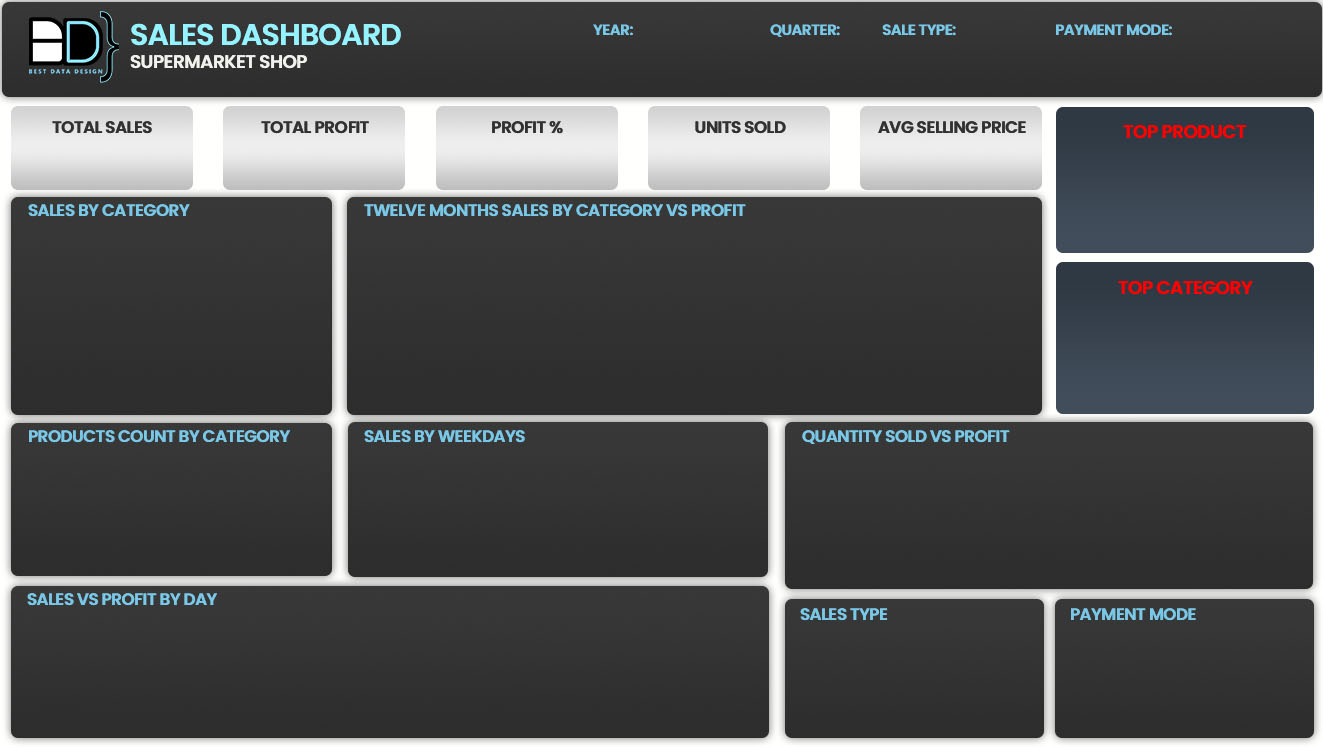

This screenshot's page, from the dashboard's own definition file:
{"tool":"powerbi","page":{"name":"Page 1","canvas":[1280,720],"ordinal":0},"visuals":[{"type":"slicer","title":"YEAR","fields":{"Values":["InputData.Year"]},"box":[550,35.7,184.3,45.7],"z":0},{"type":"slicer","title":"QUARTER","fields":{"Values":["InputData.Quarter"]},"box":[735.7,35.7,121.4,63],"z":1000},{"type":"card","title":"Total Sales","fields":{"Values":["Sum(InputData.Total Sell)"]},"box":[24.7,123.4,150,70],"z":2000},{"type":"card","title":"Total Profit","fields":{"Values":["Sum(InputData.Profit)"]},"box":[229.6,122.4,150,70],"z":3000},{"type":"card","title":"Profit %","fields":{"Values":["InputData.Profit %"]},"box":[434.5,119.4,150,70],"z":4000},{"type":"donutChart","fields":{"Category":["InputData.SALE TYPE"],"Y":["Sum(InputData.Total Sell)"]},"box":[760,601.2,241.2,108.8],"z":5000},{"type":"donutChart","fields":{"Category":["InputData.PAYMENT MODE"],"Y":["Sum(InputData.Total Sell)"]},"box":[1018.8,601.2,241.2,108.8],"z":6000},{"type":"actionButton","box":[0,0,100,40],"z":7000},{"type":"card","fields":{"Values":["Sum(InputData.Total Sell)"]},"box":[1101.6,162,89.3,51],"z":7000,"group":"g1"},{"type":"card","fields":{"Values":["Sum(InputData.Total Sell)"]},"box":[1098,320.1,96.5,45.8],"z":8000,"group":"g2"},{"type":"stackedAreaChart","fields":{"Y":["Sum(InputData.Total Sell)","Sum(InputData.Profit)"],"Category":["InputData.Day"]},"box":[24.3,560,708.6,154.3],"z":8000},{"type":"slicer","fields":{"Values":["InputData.SALE TYPE"]},"box":[846.4,34.8,174.9,63.9],"z":9000},{"type":"slicer","fields":{"Values":["InputData.PAYMENT MODE"]},"box":[1012.9,35.7,174.3,63],"z":10000},{"type":"card","fields":{"Values":["Min(InputData.MasterData.CATEGORY)"]},"box":[1080,297.7,132.5,42.5],"z":10000,"group":"g2"},{"type":"card","title":"Units Sold","fields":{"Values":["Sum(InputData.QUANTITY)"]},"box":[639.4,116.4,150,70],"z":11000},{"type":"card","fields":{"Values":["Min(InputData.MasterData.PRODUCT)"]},"box":[1081,138.9,130.4,39.7],"z":11000,"group":"g1"},{"type":"columnChart","fields":{"Category":["InputData.Day Name"],"Y":["Sum(InputData.Total Sell)"]},"box":[361.9,434.3,380,121.9],"z":12000},{"type":"card","fields":{"Values":["Sum(InputData.QUANTITY)"]},"box":[1076.1,187.1,111,53.1],"z":13000,"group":"g1"},{"type":"lineStackedColumnComboChart","fields":{"Category":["InputData.Month Name"],"Y":["Sum(InputData.Total Sell)"],"Series":["InputData.MasterData.CATEGORY"],"Y2":["Sum(InputData.Profit)"]},"box":[360,198.8,605,195],"z":13000},{"type":"card","fields":{"Values":["Min(InputData.MasterData.UOM)"]},"box":[1138.8,192,55.5,45.8],"z":14000,"group":"g1"},{"type":"donutChart","fields":{"Category":["InputData.MasterData.CATEGORY"],"Y":["Sum(InputData.Total Sell)"]},"box":[25,218.8,300,175],"z":14000},{"type":"lineStackedColumnComboChart","fields":{"Category":["InputData.MasterData.PRODUCT"],"Y":["Divide(CountNonNull(InputData.PRODUCT ID), ScopedEval(CountNonNull(InputData.PRODUCT ID), []))"],"Y2":["Divide(Avg(InputData.Total Sell), ScopedEval(Avg(InputData.Total Sell), []))"]},"box":[775.7,400.5,482.6,176.1],"z":15000},{"type":"card","title":"Avg Price/ Product","fields":{"Values":["InputData.Avg Sell Price"]},"box":[844.3,116.4,150,70],"z":16000},{"type":"pieChart","fields":{"Category":["InputData.MasterData.CATEGORY"],"Y":["Count(InputData.PRODUCT ID)"]},"box":[13.3,441.6,325.7,118.2],"z":17000},{"type":"group","id":"g1","title":"Group 1","box":[1076.1,138.9,135.4,101.3],"z":18000},{"type":"group","id":"g2","title":"Group 2","box":[1080,297.7,132.5,68.3],"z":19000}]}

Visuals, with their boxes in screenshot pixels (x1, y1, x2, y2), scaled from the page's 1280x720 canvas onto the 1323x747 screenshot:
"YEAR" slicer: locate(568, 37, 759, 84)
"QUARTER" slicer: locate(760, 37, 886, 102)
"Total Sales" card: locate(26, 128, 181, 201)
"Total Profit" card: locate(237, 127, 392, 200)
"Profit %" card: locate(449, 124, 604, 197)
donutChart - InputData.SALE TYPE x Sum(InputData.Total Sell): locate(786, 624, 1035, 737)
donutChart - InputData.PAYMENT MODE x Sum(InputData.Total Sell): locate(1053, 624, 1302, 737)
actionButton: locate(0, 0, 103, 42)
card - Sum(InputData.Total Sell): locate(1139, 168, 1231, 221)
card - Sum(InputData.Total Sell): locate(1135, 332, 1235, 380)
stackedAreaChart - Sum(InputData.Total Sell) x Sum(InputData.Profit): locate(25, 581, 758, 741)
slicer - InputData.SALE TYPE: locate(875, 36, 1056, 102)
slicer - InputData.PAYMENT MODE: locate(1047, 37, 1227, 102)
card - Min(InputData.MasterData.CATEGORY): locate(1116, 309, 1253, 353)
"Units Sold" card: locate(661, 121, 816, 193)
card - Min(InputData.MasterData.PRODUCT): locate(1117, 144, 1252, 185)
columnChart - InputData.Day Name x Sum(InputData.Total Sell): locate(374, 451, 767, 577)
card - Sum(InputData.QUANTITY): locate(1112, 194, 1227, 249)
lineStackedColumnComboChart - InputData.Month Name x Sum(InputData.Total Sell): locate(372, 206, 997, 409)
card - Min(InputData.MasterData.UOM): locate(1177, 199, 1234, 247)
donutChart - InputData.MasterData.CATEGORY x Sum(InputData.Total Sell): locate(26, 227, 336, 409)
lineStackedColumnComboChart - InputData.MasterData.PRODUCT x Divide(CountNonNull(InputData.PRODUCT ID), ScopedEval(CountNonNull(InputData.PRODUCT ID), [])): locate(802, 416, 1301, 598)
"Avg Price/ Product" card: locate(873, 121, 1028, 193)
pieChart - InputData.MasterData.CATEGORY x Count(InputData.PRODUCT ID): locate(14, 458, 350, 581)
"Group 1" group: locate(1112, 144, 1252, 249)
"Group 2" group: locate(1116, 309, 1253, 380)
